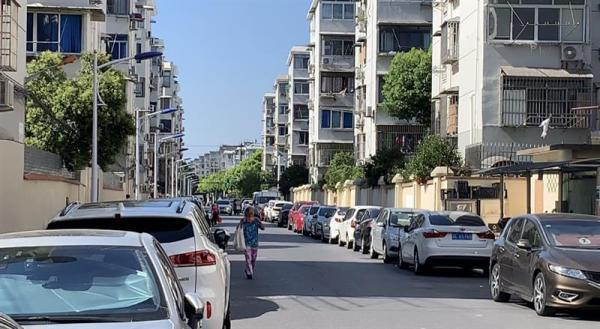car: (44, 198, 233, 328), (0, 224, 201, 329), (488, 212, 599, 317), (398, 210, 497, 276), (369, 207, 427, 262), (309, 207, 379, 243), (345, 206, 383, 252), (322, 206, 354, 244), (302, 206, 338, 237), (288, 204, 321, 233), (265, 201, 294, 223), (256, 198, 283, 221), (215, 199, 235, 215)
person: (234, 208, 263, 280)
